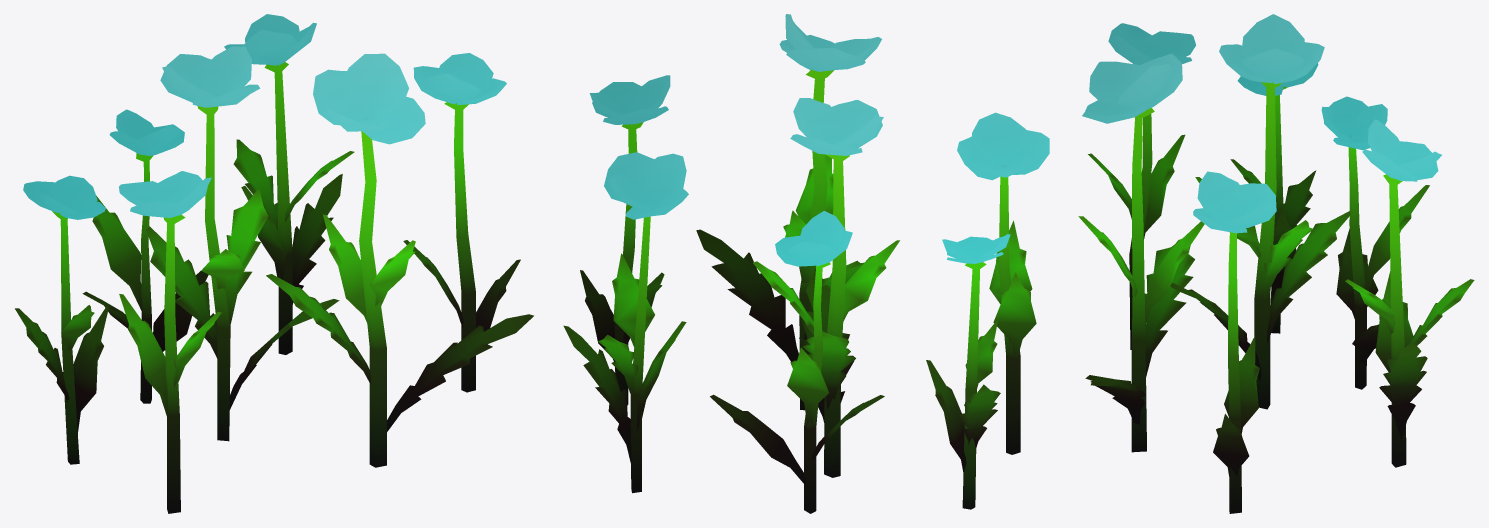
File: SM_Env_Wildflowers_03.fbx
3 views of the same model, side by side, from view 1: azimuth 30°, elevation 25°; view 2: azimuth 150°, elevation 25°; view 3: azimuth 270°, elevation 25° (orthographic). The views are drawn at different scales.
Visible parts, largest first — view 1: SM_Env_Wildflowers_03_LOD0; view 2: SM_Env_Wildflowers_03_LOD0; view 3: SM_Env_Wildflowers_03_LOD0.
Boxes of the visible parts, x1,y1,x2,y2 form: SM_Env_Wildflowers_03_LOD0: (15,14,533,513); SM_Env_Wildflowers_03_LOD0: (563,14,1049,513); SM_Env_Wildflowers_03_LOD0: (1078,14,1474,513).
Size of what is drawn, in the model's own units: 76.62 by 63.79 by 58.81.
